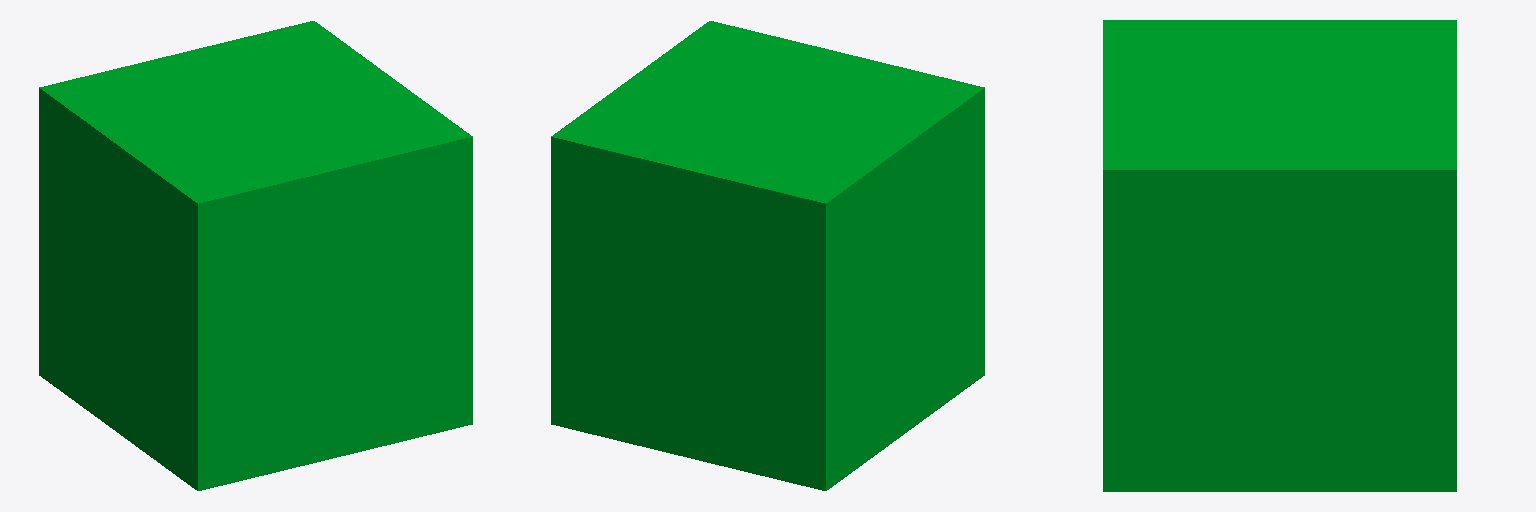
URDF robot description (cube):
<?xml version="1.0" ?>
<robot name="cube">
    <material name="red">
        <color rgba="0.69 0.09 0.12 1"/>
    </material>
    <material name="green">
        <color rgba="0.0 0.69 0.2 1"/>
    </material>
    <material name="blue">
        <color rgba="0.1 0.1 0.69 1"/>
    </material>
    <material name="yellow">
        <color rgba="0.8 0.8 0.0 1"/>
    </material>
    <material name="purple">
        <color rgba="0.69 0.1 0.69 1"/>
    </material>
    <material name="cyan">
        <color rgba="0.0 0.69 0.69 1"/>
    </material>
    <material name="orange">
        <color rgba="0.95 0.5 0.2 1"/>
    </material>
    <material name="pink">
        <color rgba="1 0.75 0.8 1"/>
    </material>

    <link name="cube_link">
        <contact>
          <lateral_friction value="1"/>
          <rolling_friction value="1"/>
          <spinning_friction value="1"/>

          <inertia_scaling value="0.5"/>
        </contact>
        <inertial>
          <origin rpy="0 0 0" xyz="0 0 0"/>
           <mass value="3"/>
           <inertia ixx="0.0" ixy="0.0" ixz="0.0" iyy="0.0" iyz="0.0" izz="0.0"/>
        </inertial>
        <visual>
          <origin rpy="0 0 0" xyz="0 0 0"/>
          <geometry>
            <box size=".06 .06 .06"/>
          </geometry>
          <material name="green" />
        </visual>
        <collision>
          <origin rpy="0 0 0" xyz="0 0 0"/>
          <geometry>
            <box size=".06 .06 .06"/>
          </geometry>
        </collision>
    </link>

</robot>

--- Facts derived from the render (not from the file) ---
Views: 3 orthographic renders of the robot side by side, from view 1: azimuth 30°, elevation 25°; view 2: azimuth 150°, elevation 25°; view 3: azimuth 270°, elevation 25°.
Robot: cube — 1 links, 0 joints (none); root link cube_link; default pose: all joints at 0.
Links seen in each view (by area): view 1: cube_link; view 2: cube_link; view 3: cube_link.
Boxes of the visible links, x1,y1,x2,y2 form: cube_link: [39, 21, 472, 490]; cube_link: [551, 21, 984, 490]; cube_link: [1103, 20, 1456, 491].
Size in the robot's own frame: 0.06 by 0.06 by 0.06 metres.
Geometry: primitives only (box / cylinder / sphere), no mesh files.